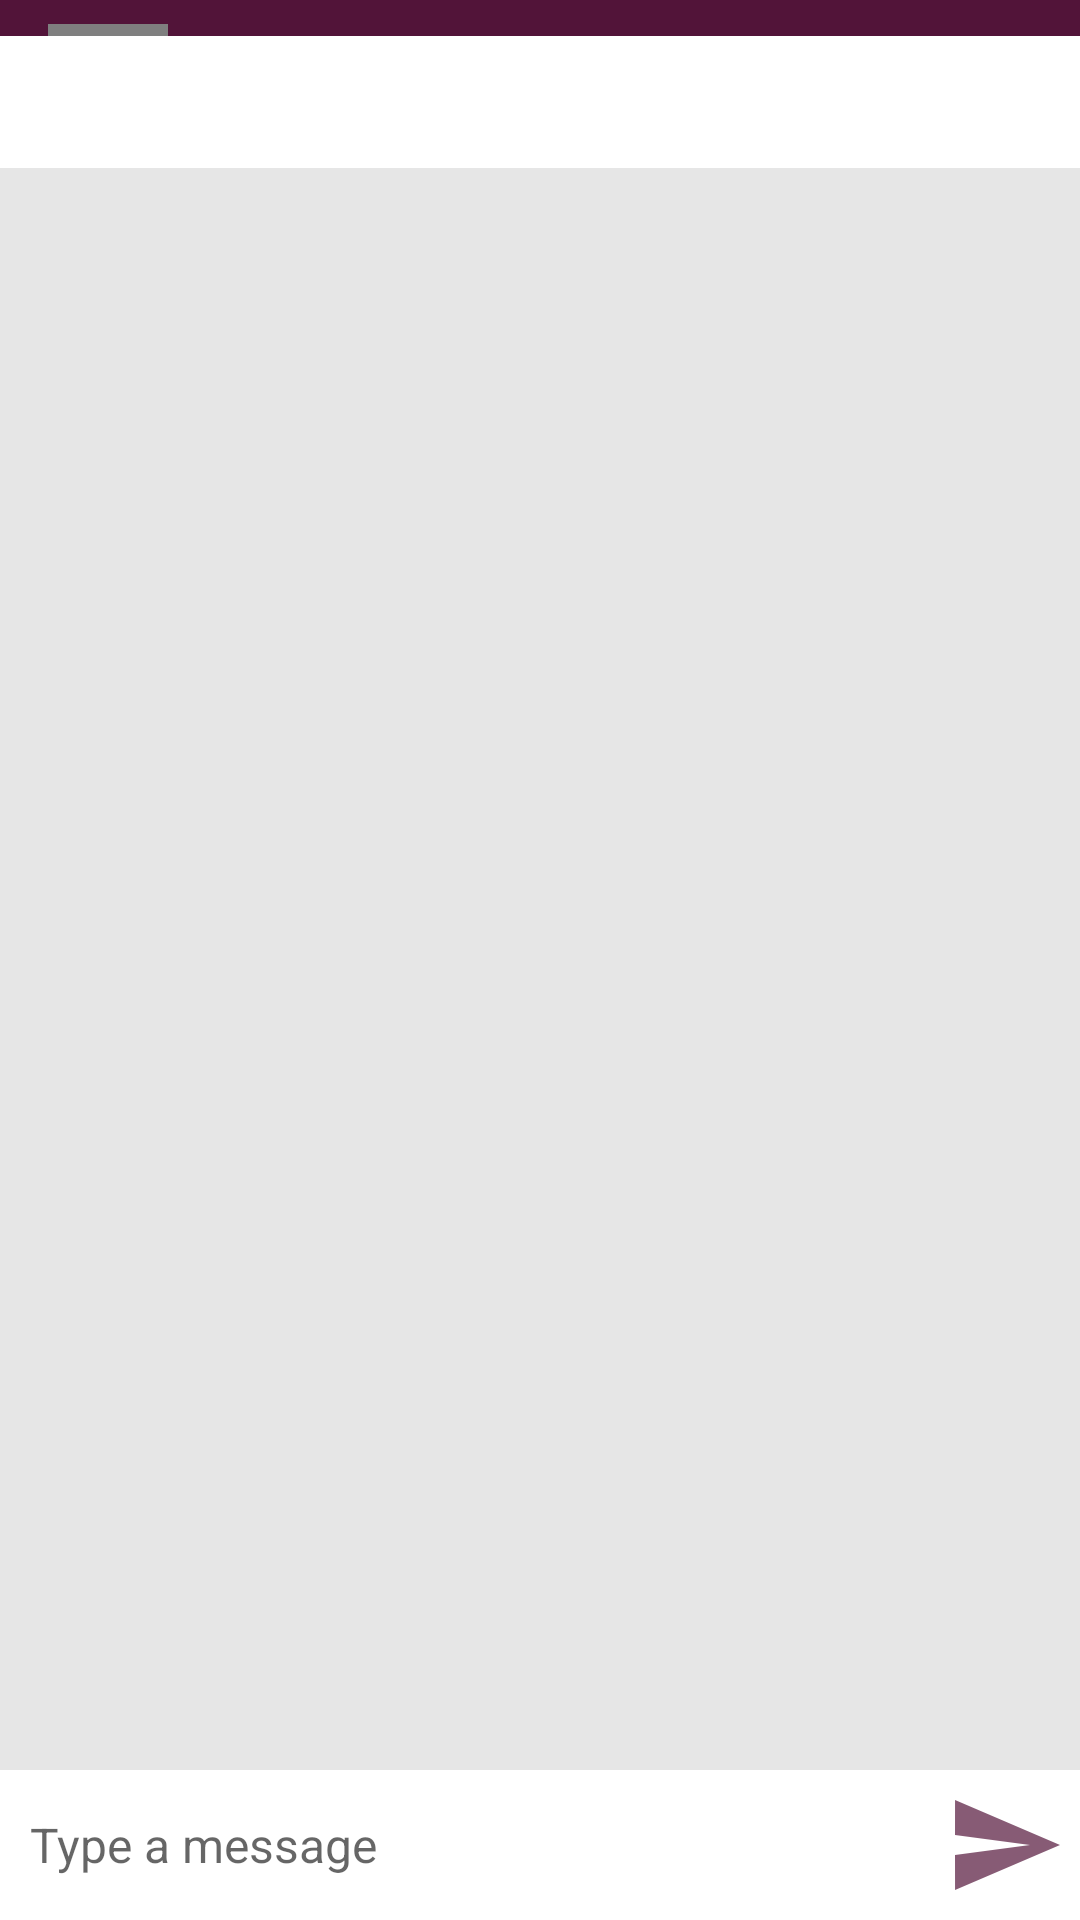

Icons on this 1080w x 1920h Android screen, each with the point to tap as (x,y):
send: (1007,1845)
